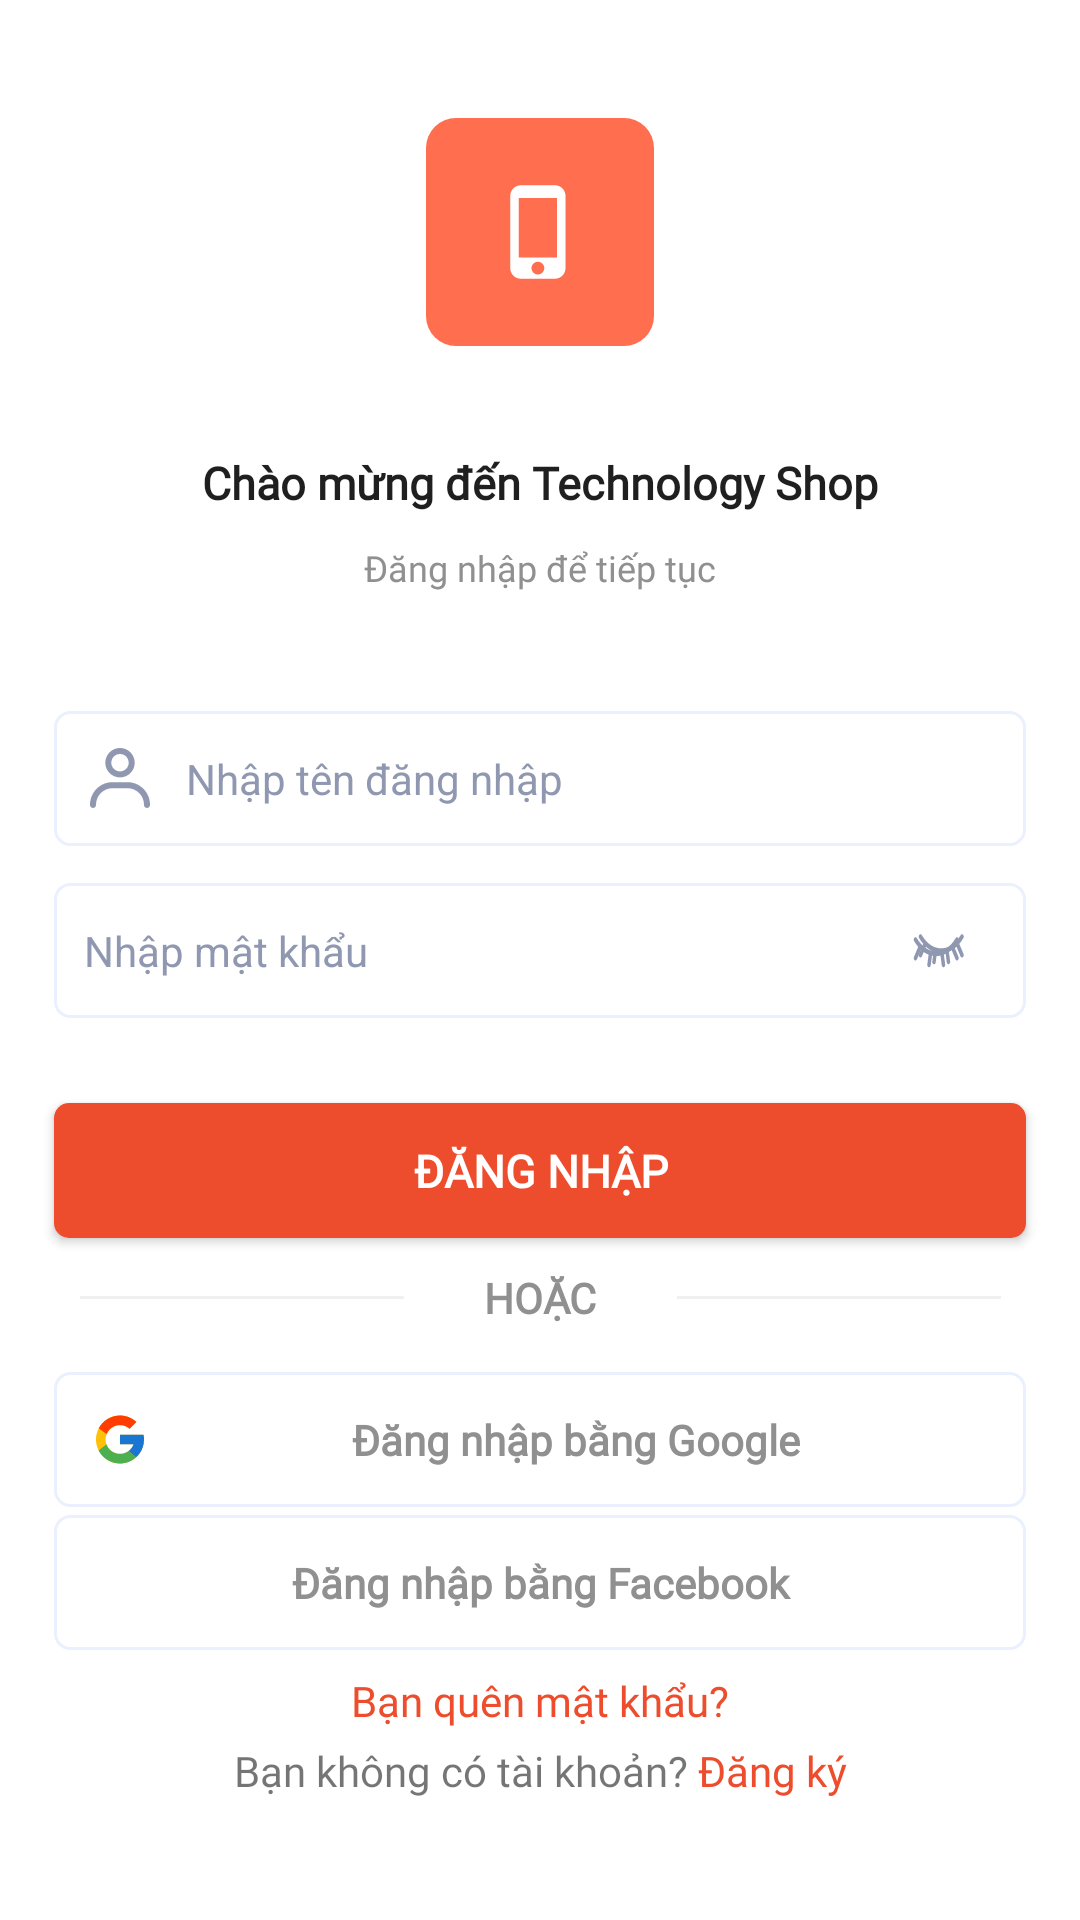

Icon click points for this 1080*1920 phone screenshot, format [x,y]:
eye hidden: [938,951]
